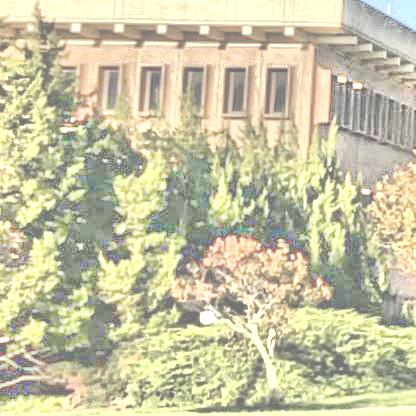golfball: (194, 306, 213, 321)
